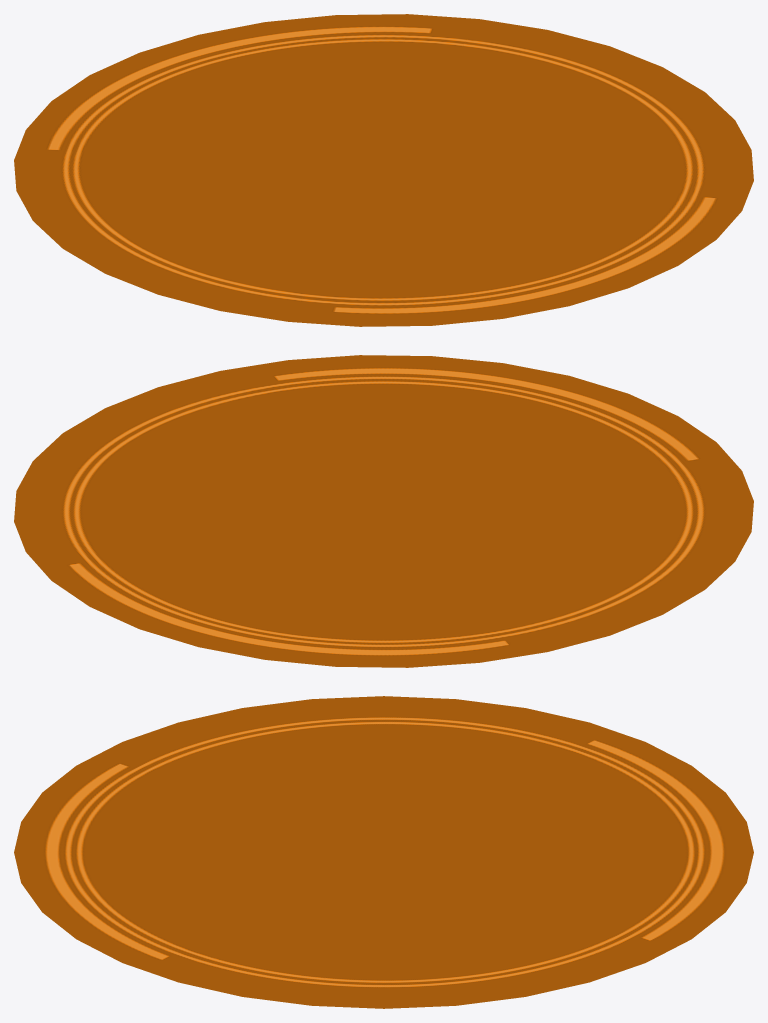
File: Orange_Circle.glb
3 renders of one model, top to bottom at view 1: azimuth 30°, elevation 25°; view 2: azimuth 150°, elevation 25°; view 3: azimuth 270°, elevation 25°, orthographic.
Visible parts, largest first — view 1: Circle; view 2: Circle; view 3: Circle.
Boxes of the visible parts, x1,y1,x2,y2 form: Circle: (14,14,753,326); Circle: (14,355,753,667); Circle: (14,696,753,1008).
Size of the model in its own units: 1.29 by 0 by 1.29.
Materials: 1 (1 with a texture image).
